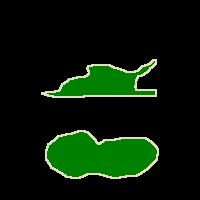shoe: (46, 130, 158, 178), (42, 60, 156, 97)
